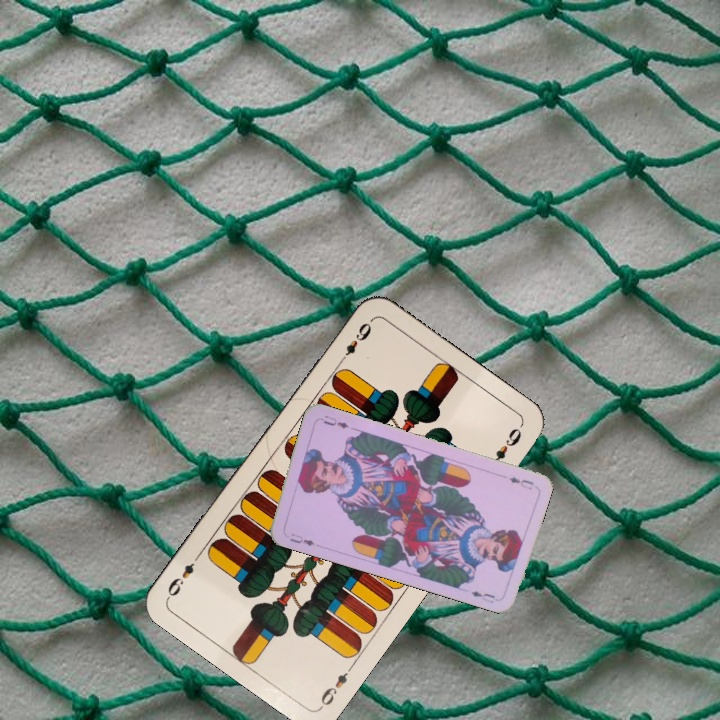E9: (334, 316, 375, 367), (316, 660, 357, 711)
EU: (505, 472, 536, 492), (286, 529, 317, 548)
